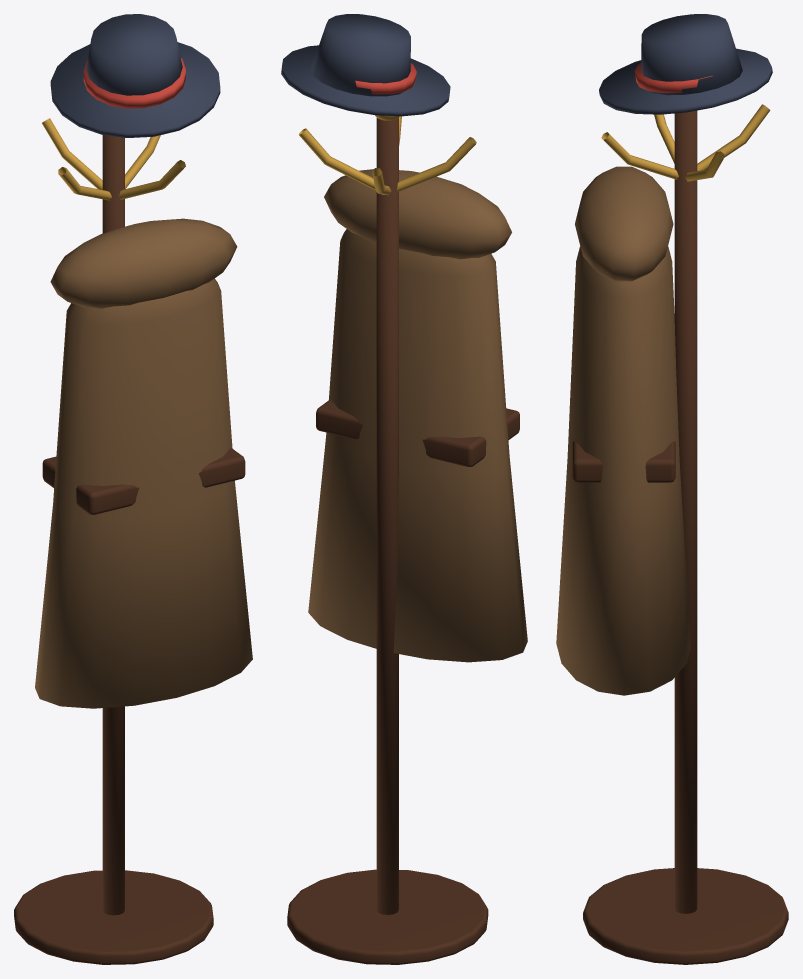
File: RmCoatRack.fbx
3 views of the same model, side by side, from view 1: azimuth 30°, elevation 25°; view 2: azimuth 150°, elevation 25°; view 3: azimuth 270°, elevation 25° (orthographic). The views are drawn at different scales.
Visible parts, largest first — view 1: RmCoatRackBody; view 2: RmCoatRackBody; view 3: RmCoatRackBody.
Part boxes in pixels (left/top/right/bottom): RmCoatRackBody: left=14, top=14, right=252, bottom=964; RmCoatRackBody: left=281, top=14, right=527, bottom=964; RmCoatRackBody: left=556, top=14, right=788, bottom=964.
Bounding box in the file's own units: 0.48 × 1.95 × 0.452.
